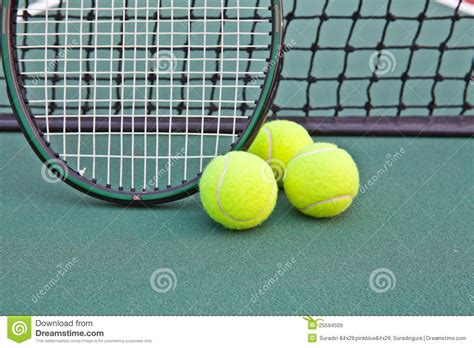tennis_ball: (199, 150, 278, 230), (282, 141, 360, 219), (247, 120, 313, 187)
